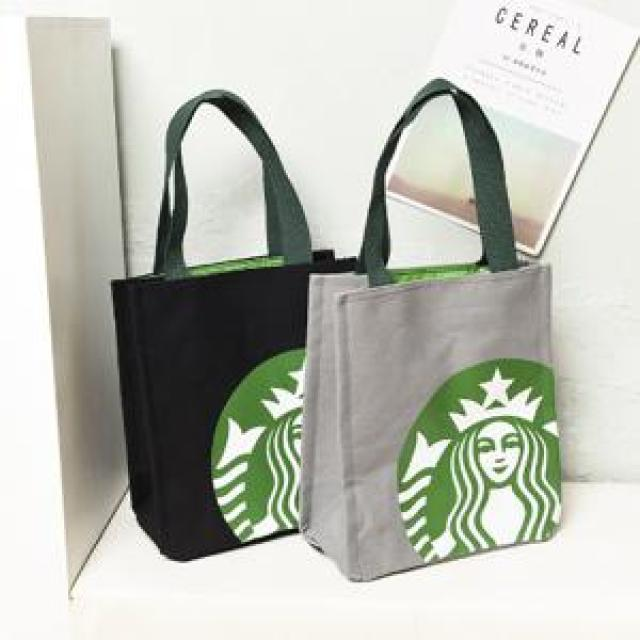ecobag: (280, 82, 584, 584)
